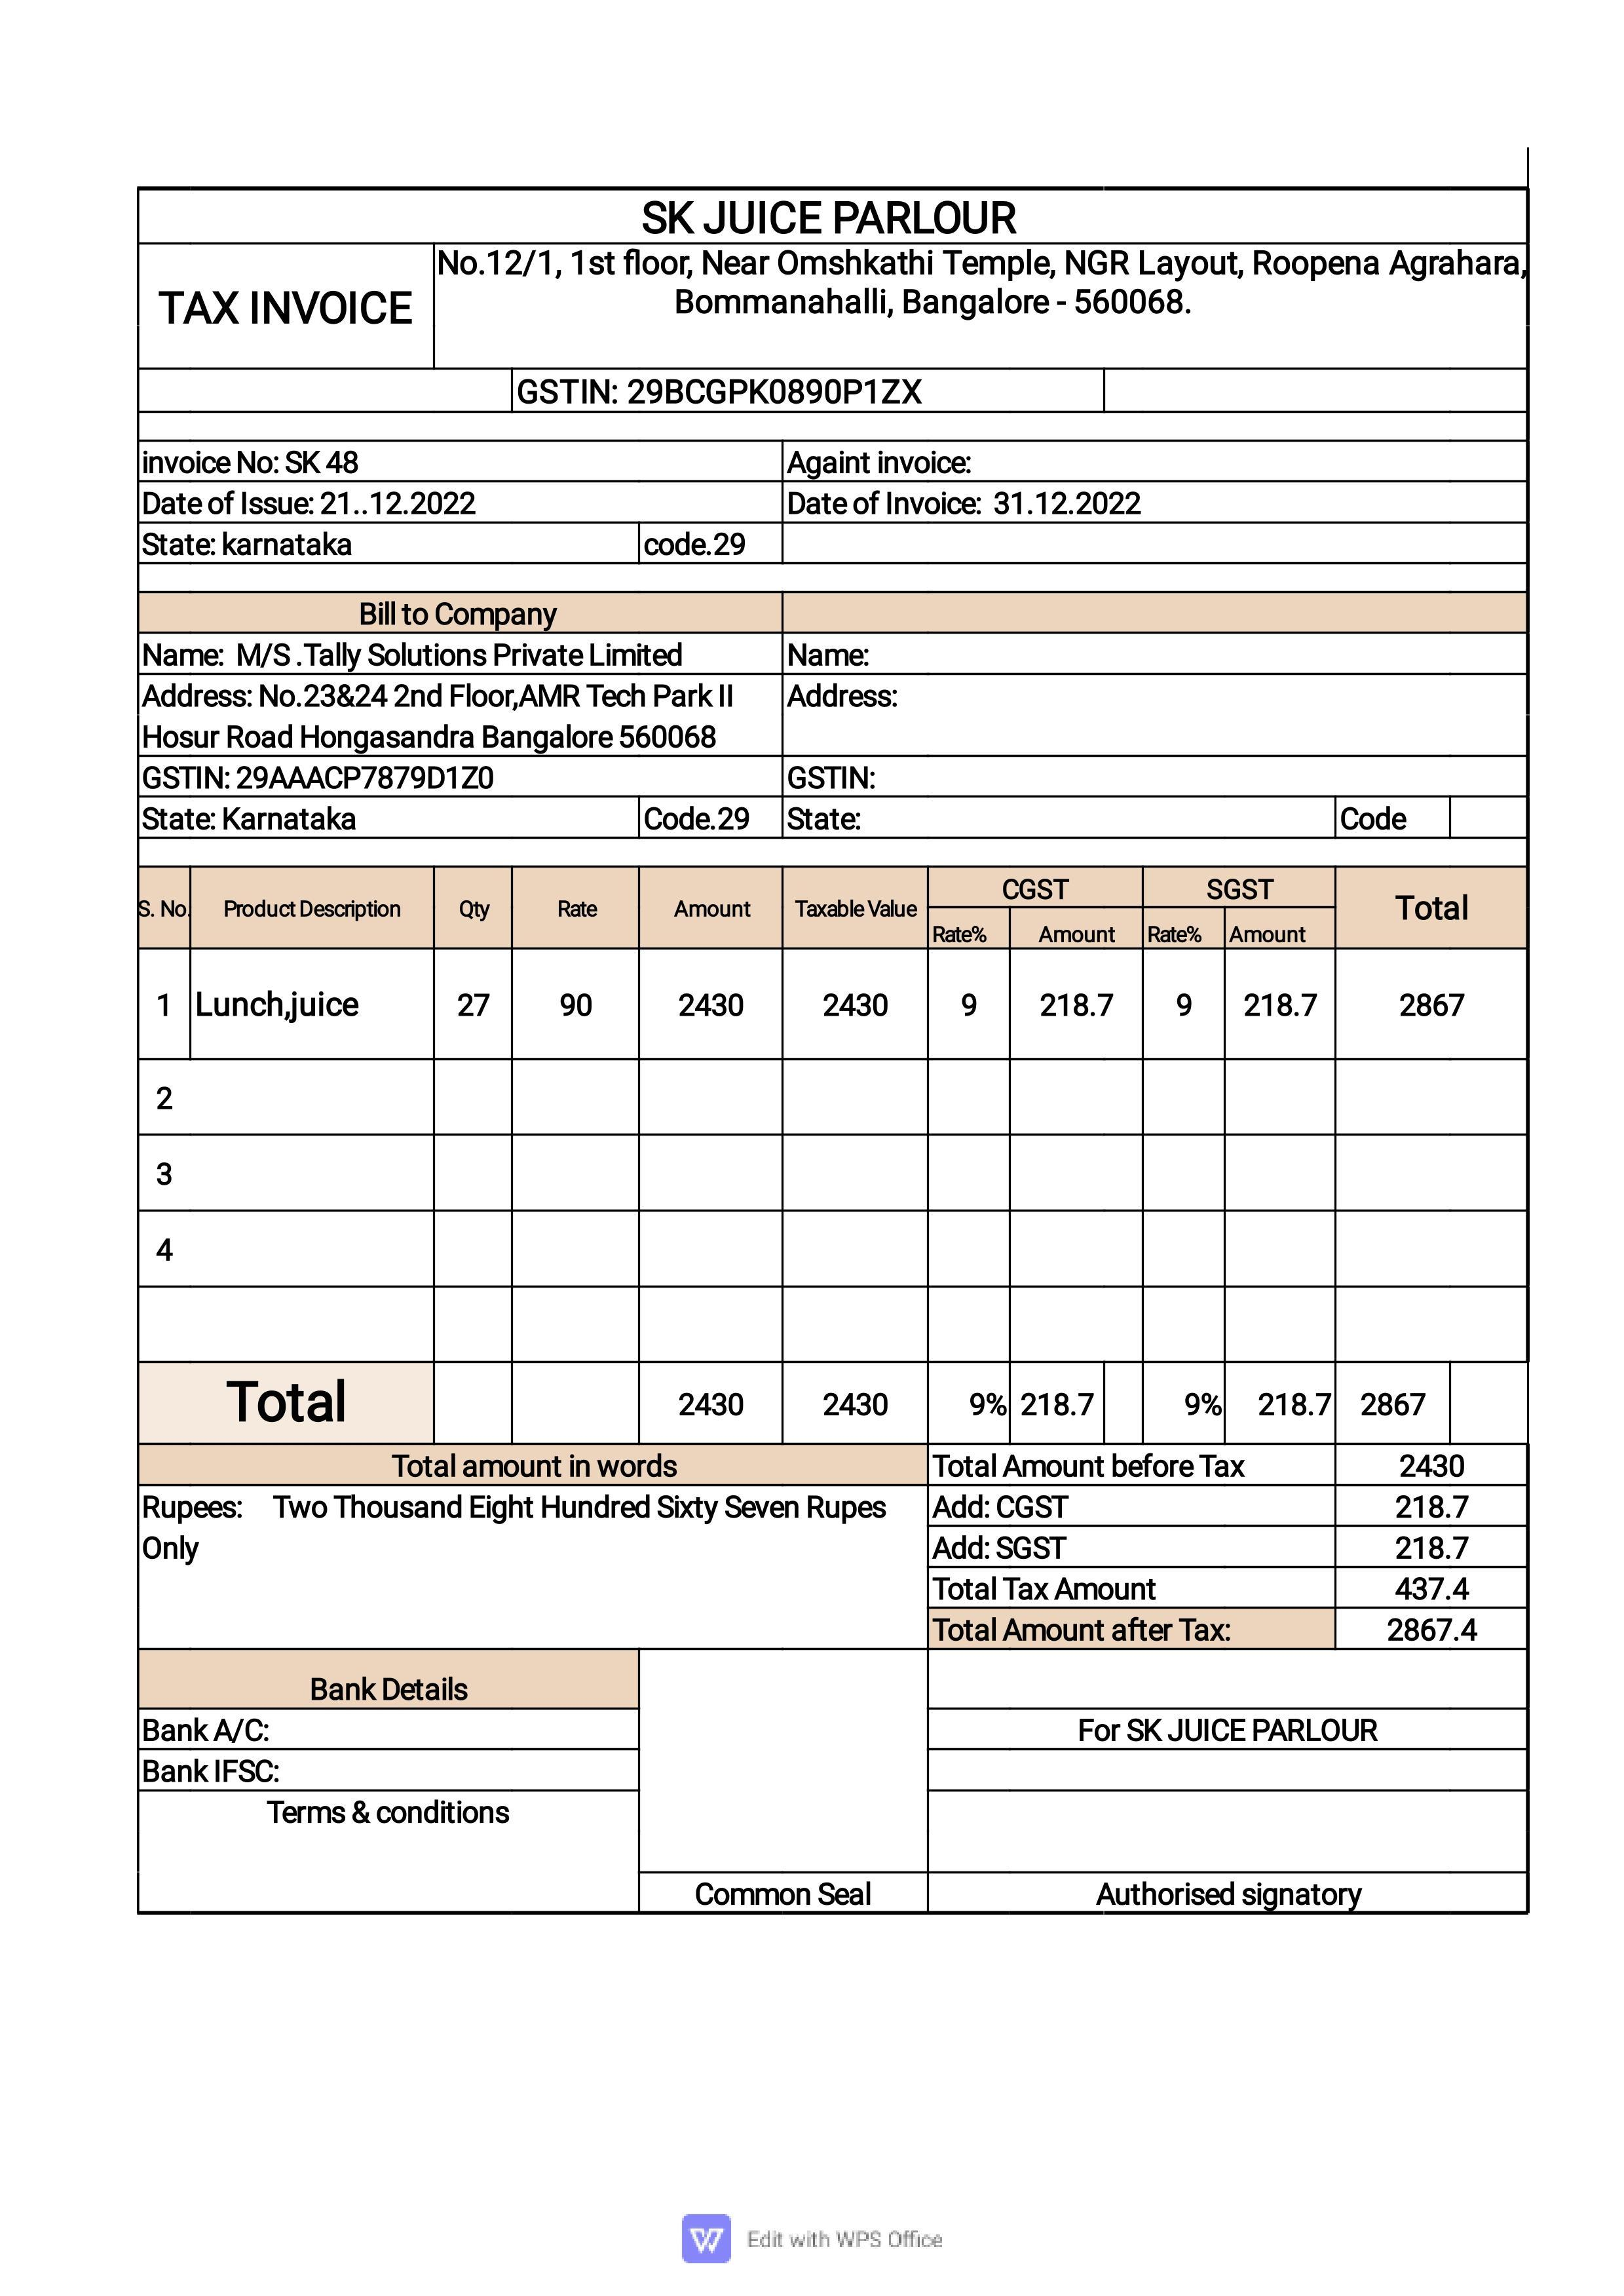InvoiceDate: (991, 483, 1153, 522)
InvoiceNumber: (281, 443, 371, 480)
TotalAmount: (1348, 1380, 1443, 1429)
